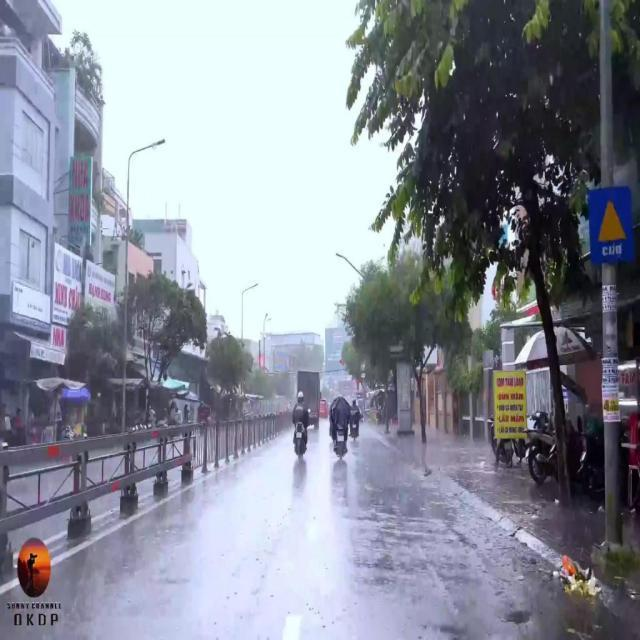442-cho: (588, 187, 634, 265)
